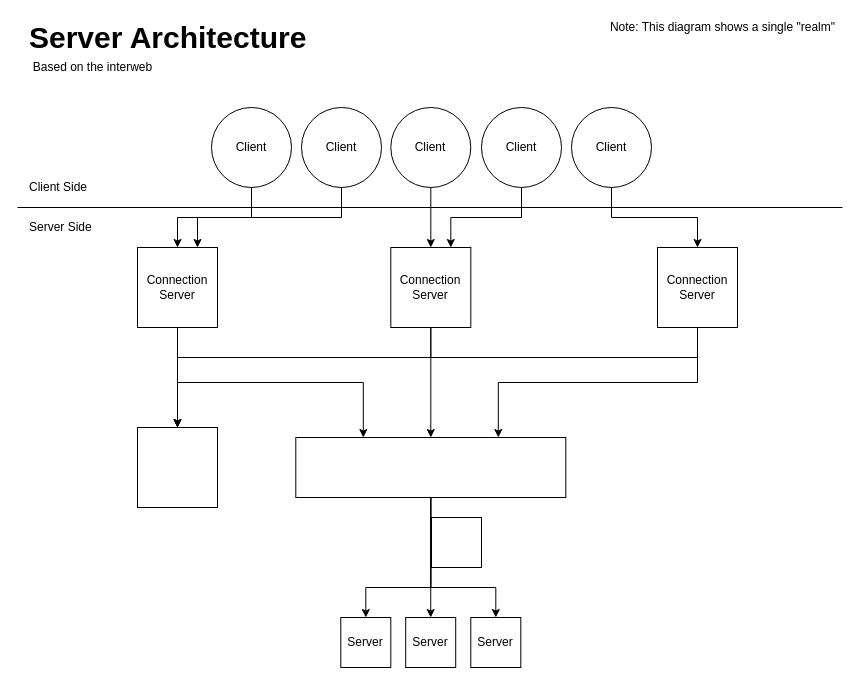
Some shapes in this 861 by 685 pixel diagram are drawn without their labels. The shapes that lost their labels are listed below. From the top down, each one's centre as x and y in pixels, then its label:
point (177, 467): Login Server
point (430, 467): Game Server Cluster
point (456, 542): Queue
